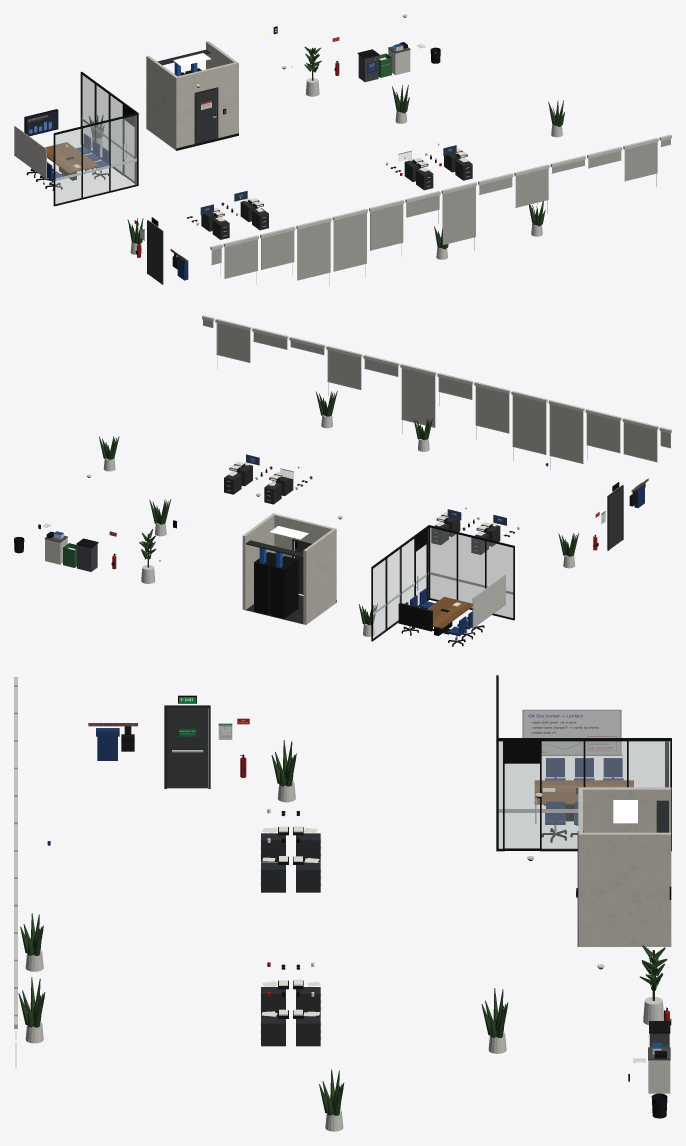
The model's file is harbor_f14_detail.glb.
3 views of the same model, one above another, from view 1: azimuth 30°, elevation 25°; view 2: azimuth 150°, elevation 25°; view 3: azimuth 270°, elevation 25° (orthographic). The views are drawn at different scales.
Visible parts, largest first — view 1: Window_Blinds, ServerCloset_Walls, MeetingRoom_Glass_South, MeetingRoom_Glass_East, Desk_Clutter, F14_Plants, MeetingRoom_Furniture, MeetingRoom_Whiteboard, ServerCloset_Door, Emergency_Exit_Door, MeetingRoom_Door, PrintArea (+2 smaller); view 2: Window_Blinds, ServerCloset_Walls, MeetingRoom_Glass_South, MeetingRoom_Glass_East, F14_Plants, Desk_Clutter, MeetingRoom_Furniture, ServerRacks, MeetingRoom_Whiteboard, Emergency_Exit_Door, Shred_Bin_Secure, PrintArea (+1 smaller); view 3: ServerCloset_Walls, MeetingRoom_Glass_East, Desk_Clutter, F14_Plants, MeetingRoom_Whiteboard_Writing, MeetingRoom_Furniture, Emergency_Exit_Door, MeetingRoom_Door, Window_Blinds, Coat_Hooks, MeetingRoom_Glass_South, PrintArea (+1 smaller).
Boxes of the visible parts, x1,y1,x2,y2 form: Window_Blinds: [210, 134, 671, 286]; ServerCloset_Walls: [146, 41, 238, 150]; MeetingRoom_Glass_South: [53, 111, 138, 206]; MeetingRoom_Glass_East: [80, 72, 135, 175]; Desk_Clutter: [187, 148, 472, 239]; F14_Plants: [89, 46, 564, 259]; MeetingRoom_Furniture: [24, 109, 108, 190]; MeetingRoom_Whiteboard: [14, 126, 47, 179]; ServerCloset_Door: [196, 89, 216, 143]; Emergency_Exit_Door: [148, 223, 161, 283]; MeetingRoom_Door: [123, 118, 134, 183]; PrintArea: [388, 42, 410, 75]; Window_Blinds: [202, 315, 671, 469]; ServerCloset_Walls: [242, 513, 336, 624]; MeetingRoom_Glass_South: [426, 525, 514, 620]; MeetingRoom_Glass_East: [371, 527, 427, 641]; F14_Plants: [99, 391, 578, 636]; Desk_Clutter: [224, 461, 519, 554]; MeetingRoom_Furniture: [398, 588, 484, 646]; ServerRacks: [254, 552, 298, 618]; MeetingRoom_Whiteboard: [472, 574, 505, 628]; Emergency_Exit_Door: [609, 488, 622, 549]; Shred_Bin_Secure: [76, 538, 98, 571]; PrintArea: [44, 531, 67, 564]; ServerCloset_Walls: [577, 787, 671, 946]; MeetingRoom_Glass_East: [503, 738, 671, 851]; Desk_Clutter: [260, 808, 321, 1046]; F14_Plants: [18, 740, 667, 1131]; MeetingRoom_Whiteboard_Writing: [524, 710, 619, 753]; MeetingRoom_Furniture: [534, 741, 668, 842]; Emergency_Exit_Door: [167, 708, 207, 788]; MeetingRoom_Door: [504, 761, 539, 850]; Window_Blinds: [14, 677, 17, 1067]; Coat_Hooks: [88, 723, 137, 760]; MeetingRoom_Glass_South: [496, 675, 504, 851]; PrintArea: [648, 1043, 670, 1093].
Bounding box in the file's own units: 19.97 × 3 × 15.92.
Materials: 53 (18 with a texture image).
